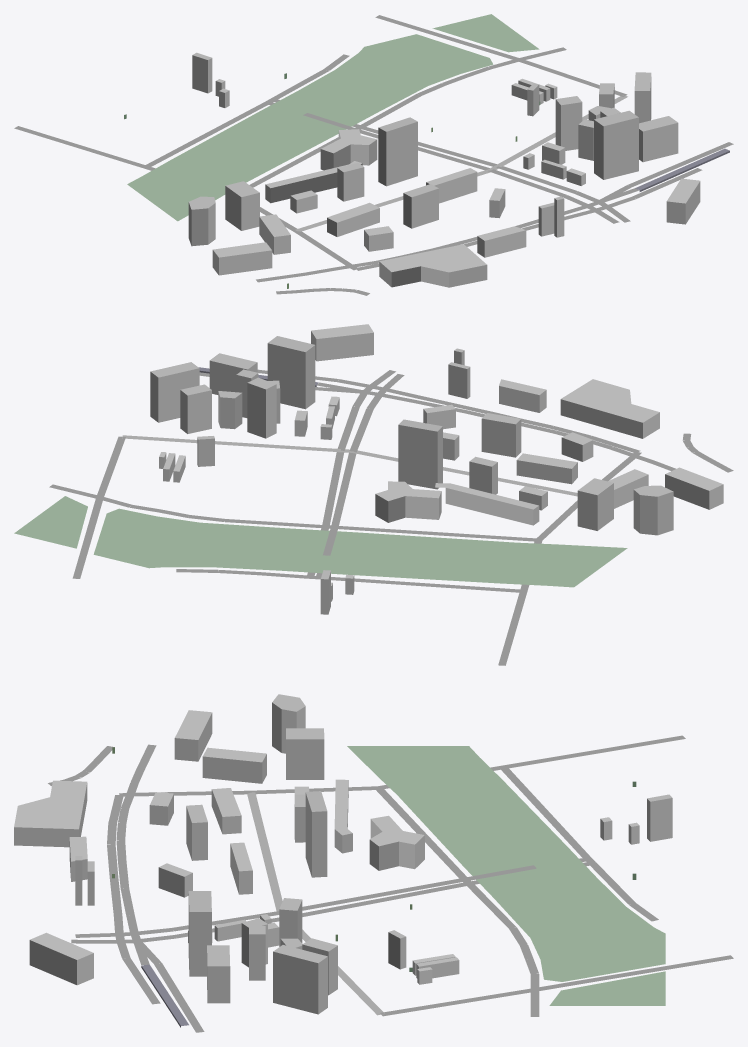
3 renders of one model, top to bottom at view 1: azimuth 30°, elevation 25°; view 2: azimuth 150°, elevation 25°; view 3: azimuth 270°, elevation 25°, orthographic. The views are drawn at different scales.
Bounding box in the file's own units: 581 × 62.6 × 581.
